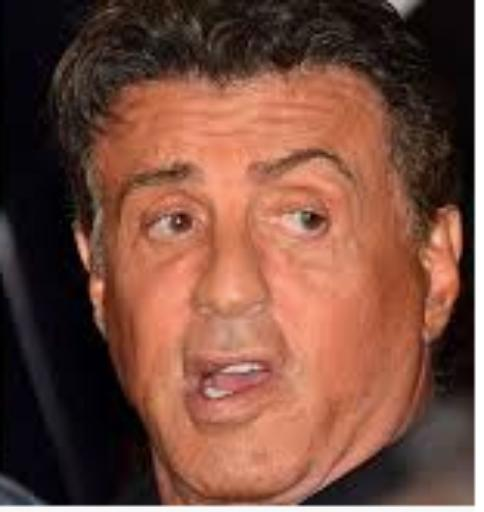left_eye: (261, 207, 337, 236)
left_lip_corner: (263, 359, 284, 387)
right_eye: (141, 212, 202, 239)
right_lip_corner: (175, 370, 199, 391)
